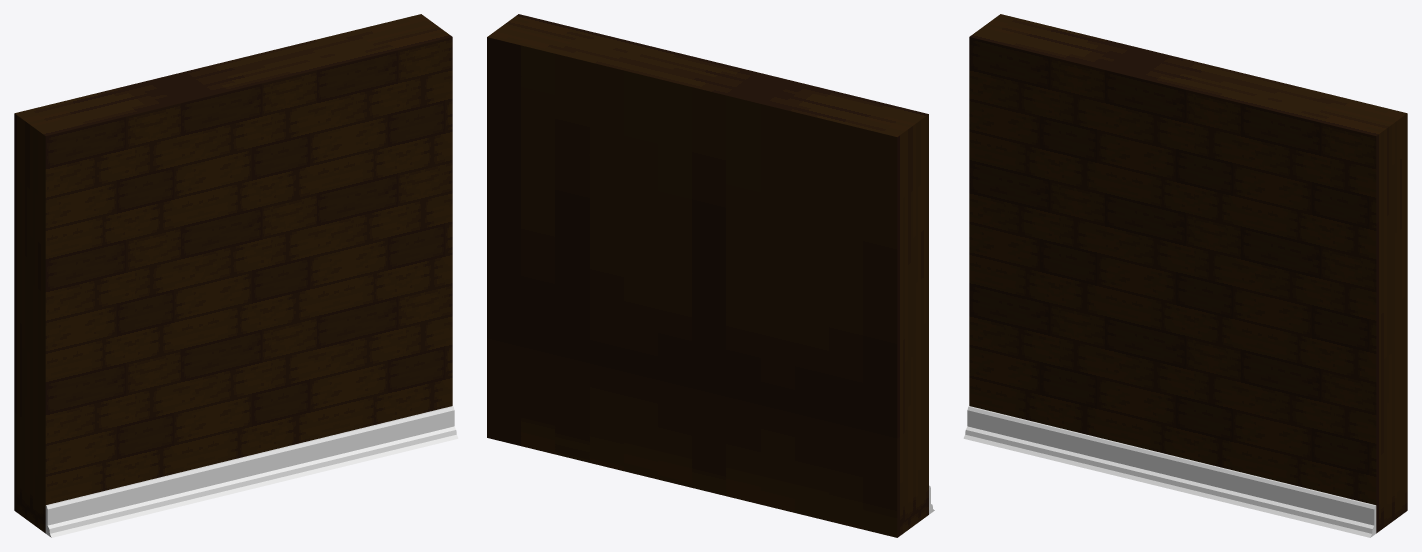
The model's file is wall.glb.
3 renders of one model, left to right at view 1: azimuth 30°, elevation 25°; view 2: azimuth 150°, elevation 25°; view 3: azimuth 330°, elevation 25°, orthographic.
Parts seen in each view (by area): view 1: Cube; view 2: Cube; view 3: Cube.
Boxes of the visible parts, x1,y1,x2,y2 form: Cube: (14,14,458,537); Cube: (487,14,934,537); Cube: (963,14,1407,537).
Bounding box in the file's own units: 15 × 14 × 2.38.
Materials: 2 (1 with a texture image).
